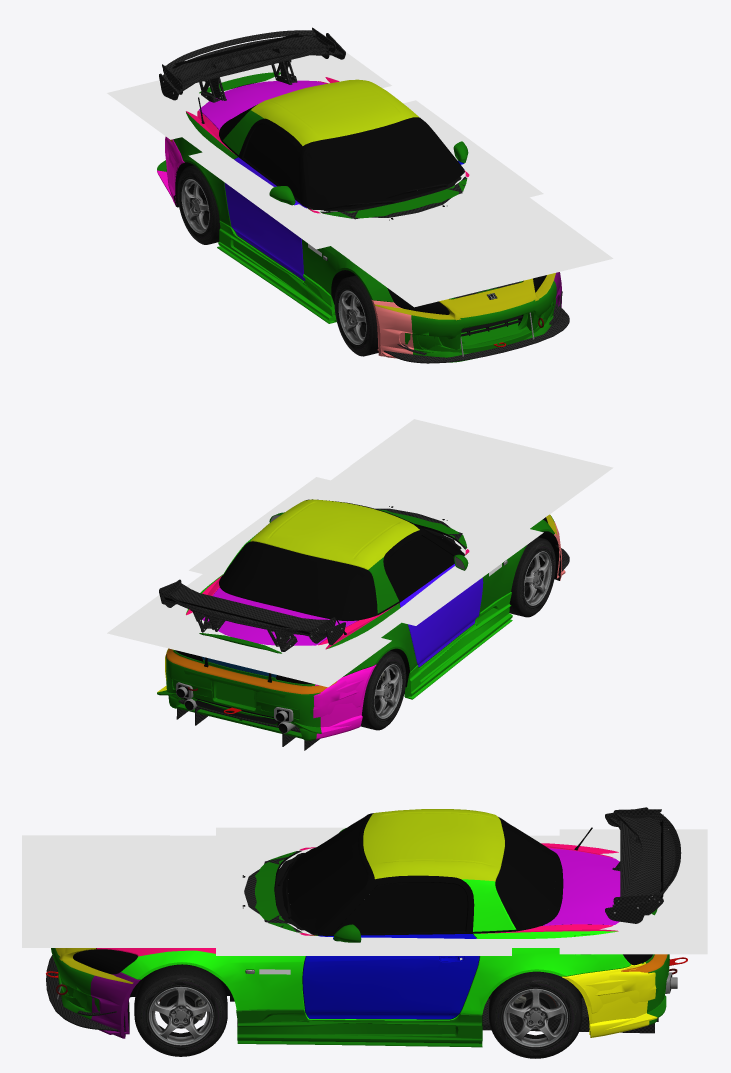
The picture shows the model from 3 angles, top to bottom: view 1: azimuth 30°, elevation 25°; view 2: azimuth 150°, elevation 25°; view 3: azimuth 270°, elevation 25°; orthographic projection. The views are drawn at different scales.
Visible parts, largest first — view 1: neon (×4), hon_s2000_03_body_body_, shadow, hon_s2000_03_glassF_window_, hon_s2000_03_bumperFc_body_, hon_s2000_03_wingb_carbon_fiber_, hon_s2000_03_wheel_tire_ (×2), hon_s2000_03_skirtRe_body_, hon_s2000_03_glassRF_window_, hon_s2000_03_trunk_body_2_, hon_s2000_03_wingc_carbon_fiber_, hon_s2000_03_wheel_rim_ (×2) (+9 smaller); view 2: neon (×4), hon_s2000_03_body_body_, shadow, hon_s2000_03_glassR_window_, hon_s2000_03_bumperRb_body_, hon_s2000_03_bumperRe_body_, hon_s2000_03_wheel_tire_ (×2), hon_s2000_03_wingb_carbon_fiber_, hon_s2000_03_skirtRe_body_, hon_s2000_03_glassRF_window_, hon_s2000_03_body_black_glass_, hon_s2000_03_wheel_rim_ (×2) (+6 smaller); view 3: neon (×4), hon_s2000_03_body_body_, shadow, hon_s2000_03_wheel_tire_ (×2), hon_s2000_03_skirtLe_body_, hon_s2000_03_glassLF_window_, hon_s2000_03_glassF_window_, hon_s2000_03_wheel_rim_ (×2), hon_s2000_03_trunk_body_2_, hon_s2000_03_wingb_carbon_fiber_, hon_s2000_03_glassR_window_, hon_s2000_03_bumperFc_body_ (+18 smaller).
Boxes of the visible parts, box(x1,y1,x2,y2) form: neon (×4): box(107, 52, 613, 307); hon_s2000_03_body_body_: box(173, 77, 469, 302); shadow: box(173, 63, 568, 285); hon_s2000_03_glassF_window_: box(306, 125, 460, 207); hon_s2000_03_bumperFc_body_: box(373, 272, 561, 357); hon_s2000_03_wingb_carbon_fiber_: box(162, 27, 335, 100); hon_s2000_03_wheel_tire_ (×2): box(177, 165, 378, 356); hon_s2000_03_skirtRe_body_: box(218, 221, 336, 321); hon_s2000_03_glassRF_window_: box(243, 124, 299, 197); hon_s2000_03_trunk_body_2_: box(199, 80, 325, 130); hon_s2000_03_wingc_carbon_fiber_: box(159, 33, 345, 102); hon_s2000_03_wheel_rim_ (×2): box(181, 179, 366, 344); neon (×4): box(107, 419, 613, 687); hon_s2000_03_body_body_: box(186, 499, 554, 677); shadow: box(186, 440, 567, 637); hon_s2000_03_glassR_window_: box(224, 546, 371, 612); hon_s2000_03_bumperRb_body_: box(157, 648, 376, 733); hon_s2000_03_bumperRe_body_: box(165, 648, 372, 740); hon_s2000_03_wheel_tire_ (×2): box(360, 537, 555, 730); hon_s2000_03_wingb_carbon_fiber_: box(162, 579, 335, 646); hon_s2000_03_skirtRe_body_: box(404, 592, 512, 696); hon_s2000_03_glassRF_window_: box(387, 535, 451, 597); hon_s2000_03_body_black_glass_: box(219, 532, 463, 618); hon_s2000_03_wheel_rim_ (×2): box(374, 551, 551, 718); neon (×4): box(22, 827, 707, 955); hon_s2000_03_body_body_: box(96, 809, 630, 1020); shadow: box(53, 835, 677, 947); hon_s2000_03_wheel_tire_ (×2): box(134, 964, 582, 1058); hon_s2000_03_skirtLe_body_: box(236, 1009, 482, 1043); hon_s2000_03_glassLF_window_: box(343, 882, 467, 932); hon_s2000_03_glassF_window_: box(288, 818, 363, 930); hon_s2000_03_wheel_rim_ (×2): box(148, 986, 567, 1047); hon_s2000_03_trunk_body_2_: box(543, 848, 620, 925); hon_s2000_03_wingb_carbon_fiber_: box(612, 809, 681, 908); hon_s2000_03_glassR_window_: box(501, 819, 555, 921); hon_s2000_03_bumperFc_body_: box(51, 948, 136, 1038).
Bounding box in the file's own units: 3.6 × 1.28 × 4.75.
